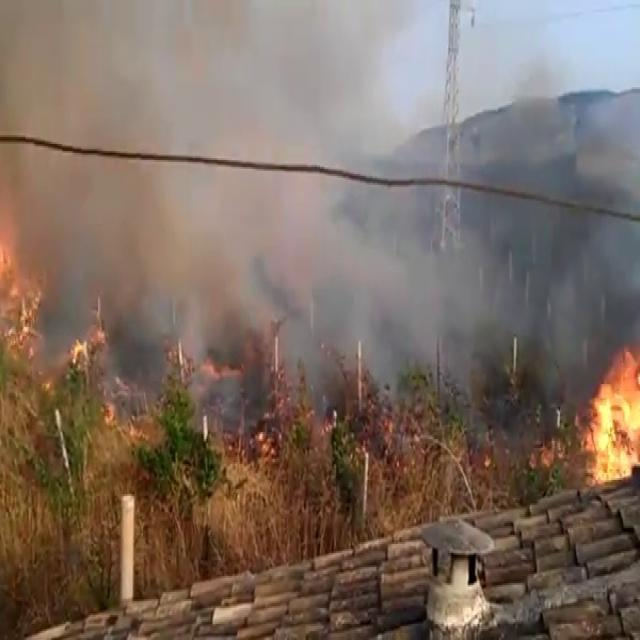Fire: (577, 334, 640, 486)
Smoke: (0, 0, 635, 441)
